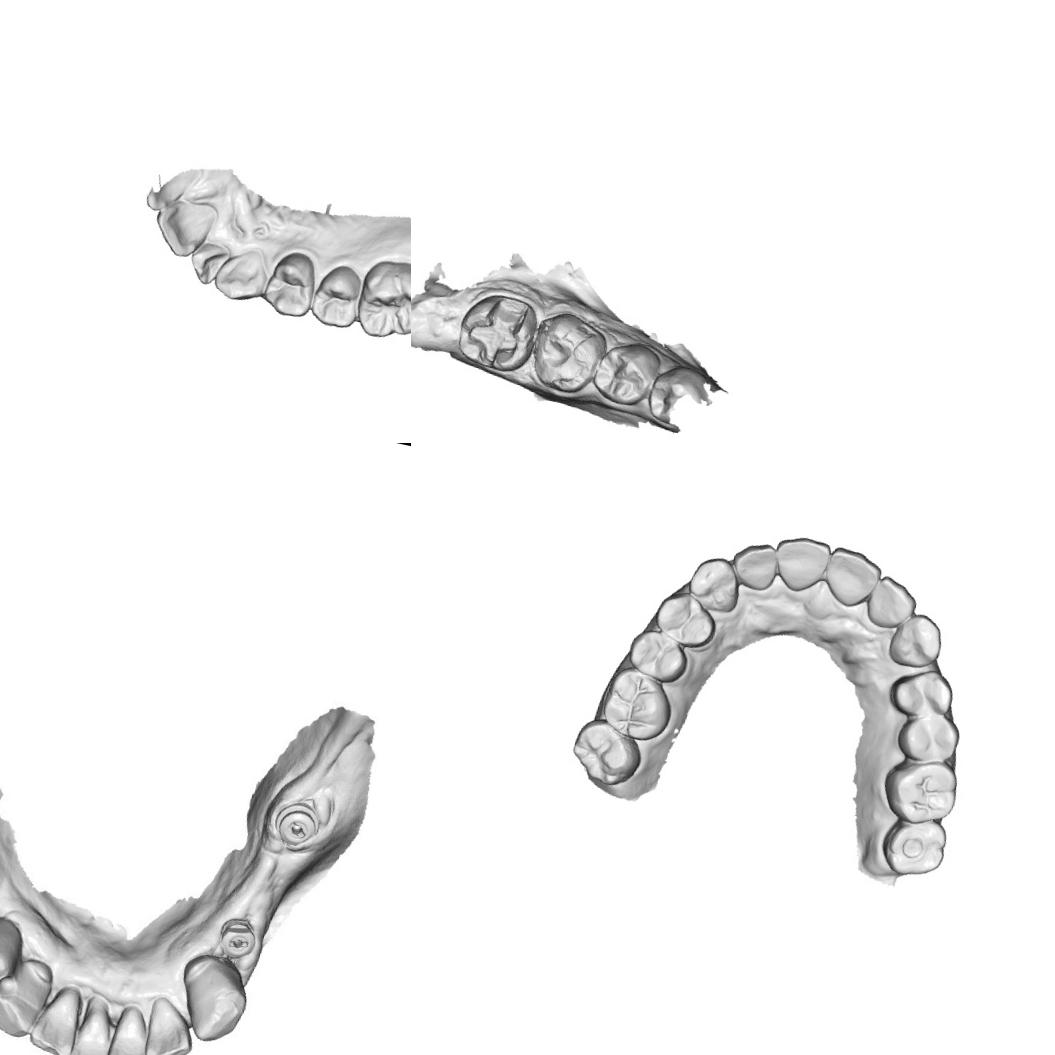canine: (169, 950, 257, 1050), (0, 948, 58, 1044), (682, 550, 747, 618), (884, 607, 948, 674), (212, 243, 276, 306)
implant_minus: (268, 796, 326, 854), (213, 912, 262, 963)
incisor: (148, 191, 220, 263), (25, 978, 91, 1055), (819, 544, 886, 613), (767, 530, 832, 598), (138, 992, 203, 1055), (862, 571, 924, 635), (63, 997, 122, 1055), (103, 1000, 161, 1055), (727, 536, 782, 594), (185, 237, 232, 288)
inlay: (459, 290, 536, 374)
molar: (524, 306, 612, 400), (874, 750, 964, 832), (594, 662, 680, 747), (564, 713, 649, 793), (875, 810, 952, 884), (351, 254, 411, 347)
premolar: (588, 334, 664, 412), (648, 585, 723, 652), (642, 359, 710, 432), (892, 705, 966, 769), (884, 662, 959, 725), (622, 624, 693, 689), (306, 258, 368, 332), (260, 246, 322, 320), (0, 908, 30, 1005)
